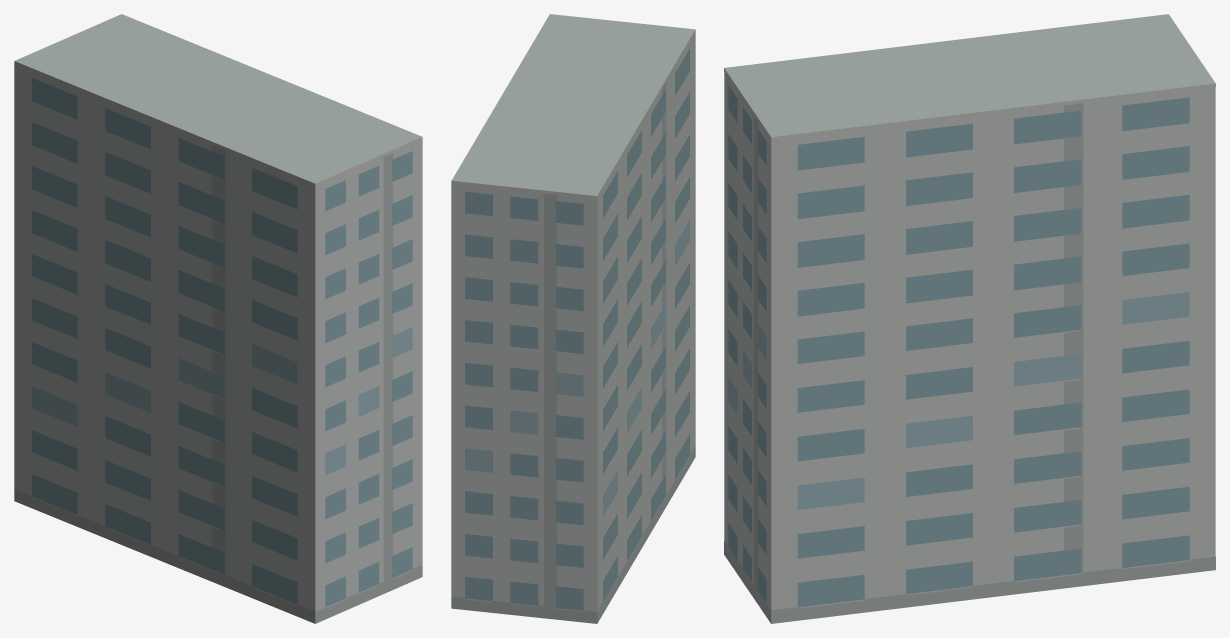
The model's file is residential-f62a5194-d9ae-4495-a8b6-d0475655f765.glb.
3 views of the same model, side by side, from view 1: azimuth 30°, elevation 25°; view 2: azimuth 150°, elevation 25°; view 3: azimuth 270°, elevation 25° (orthographic). The views are drawn at different scales.
Parts seen in each view (by area): view 1: residential-f62a5194-d9ae-4495-a8b6-d0475655f765.tmp; view 2: residential-f62a5194-d9ae-4495-a8b6-d0475655f765.tmp; view 3: residential-f62a5194-d9ae-4495-a8b6-d0475655f765.tmp.
Part boxes in pixels (x1,y1,x2,y2): residential-f62a5194-d9ae-4495-a8b6-d0475655f765.tmp: (14,14,422,623); residential-f62a5194-d9ae-4495-a8b6-d0475655f765.tmp: (451,14,695,623); residential-f62a5194-d9ae-4495-a8b6-d0475655f765.tmp: (724,14,1215,623).
Bounding box in the file's own units: 17.39 × 32 × 29.31.
